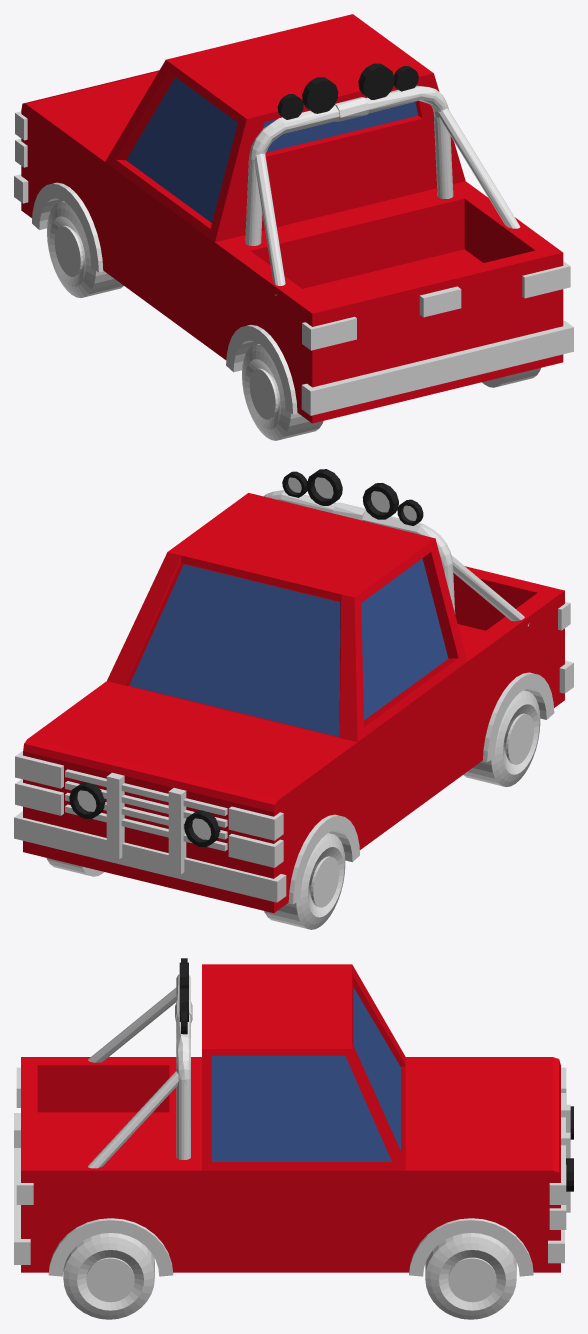
Rendered from Pickup.fbx.
3 renders of one model, top to bottom at view 1: azimuth 30°, elevation 25°; view 2: azimuth 150°, elevation 25°; view 3: azimuth 270°, elevation 25°, orthographic. The views are drawn at different scales.
Parts seen in each view (by area): view 1: Cube, Cube.009, Cylinder.021, Cylinder.020, Cylinder.006, Cylinder.007, Cylinder.005, Cylinder.002, Cylinder.010, Cylinder.009, Cube.012, Cube.011 (+4 smaller); view 2: Cube, Cube.005, Cylinder.020, Cylinder.021, Cube.006, Cylinder.002, Cylinder.005, Cube.007, Cube.008, Cube.001, Cube.002, Cylinder.006 (+8 smaller); view 3: Cube, Cylinder.022, Cylinder.023, Cylinder.004, Cylinder.003, Cylinder.007, Cylinder.010, Cylinder.009, Cube.009, Cube.004, Cube.011.
Part boxes in pixels (<box>): Cube: <box>21,14,563,423</box>; Cube.009: <box>301,320,573,415</box>; Cylinder.021: <box>242,344,323,440</box>; Cylinder.020: <box>47,201,123,297</box>; Cylinder.006: <box>245,105,339,245</box>; Cylinder.007: <box>365,85,453,198</box>; Cylinder.005: <box>226,324,297,414</box>; Cylinder.002: <box>32,182,103,272</box>; Cylinder.010: <box>438,108,520,228</box>; Cylinder.009: <box>254,153,285,295</box>; Cube.012: <box>302,316,356,350</box>; Cube.011: <box>522,261,570,298</box>; Cube: <box>23,493,564,913</box>; Cube.005: <box>14,811,286,902</box>; Cylinder.020: <box>264,833,345,929</box>; Cylinder.021: <box>463,690,540,786</box>; Cube.006: <box>65,769,227,851</box>; Cylinder.002: <box>288,814,359,904</box>; Cylinder.005: <box>482,672,554,762</box>; Cube.007: <box>106,772,124,859</box>; Cube.008: <box>168,788,186,874</box>; Cube.001: <box>228,806,283,840</box>; Cube.002: <box>228,833,283,867</box>; Cylinder.006: <box>362,511,455,613</box>; Cube: <box>21,964,560,1272</box>; Cylinder.022: <box>425,1233,516,1319</box>; Cylinder.023: <box>63,1233,154,1319</box>; Cylinder.004: <box>48,1218,173,1276</box>; Cylinder.003: <box>409,1218,533,1276</box>; Cylinder.007: <box>176,1014,190,1159</box>; Cylinder.010: <box>88,1071,178,1168</box>; Cylinder.009: <box>88,987,176,1062</box>; Cube.009: <box>14,1148,30,1264</box>; Cube.004: <box>549,1164,566,1204</box>; Cube.011: <box>16,1164,33,1204</box>.
Bounding box in the file's own units: 504 × 557 × 996.
